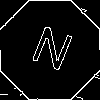N: (25, 25, 76, 80)
